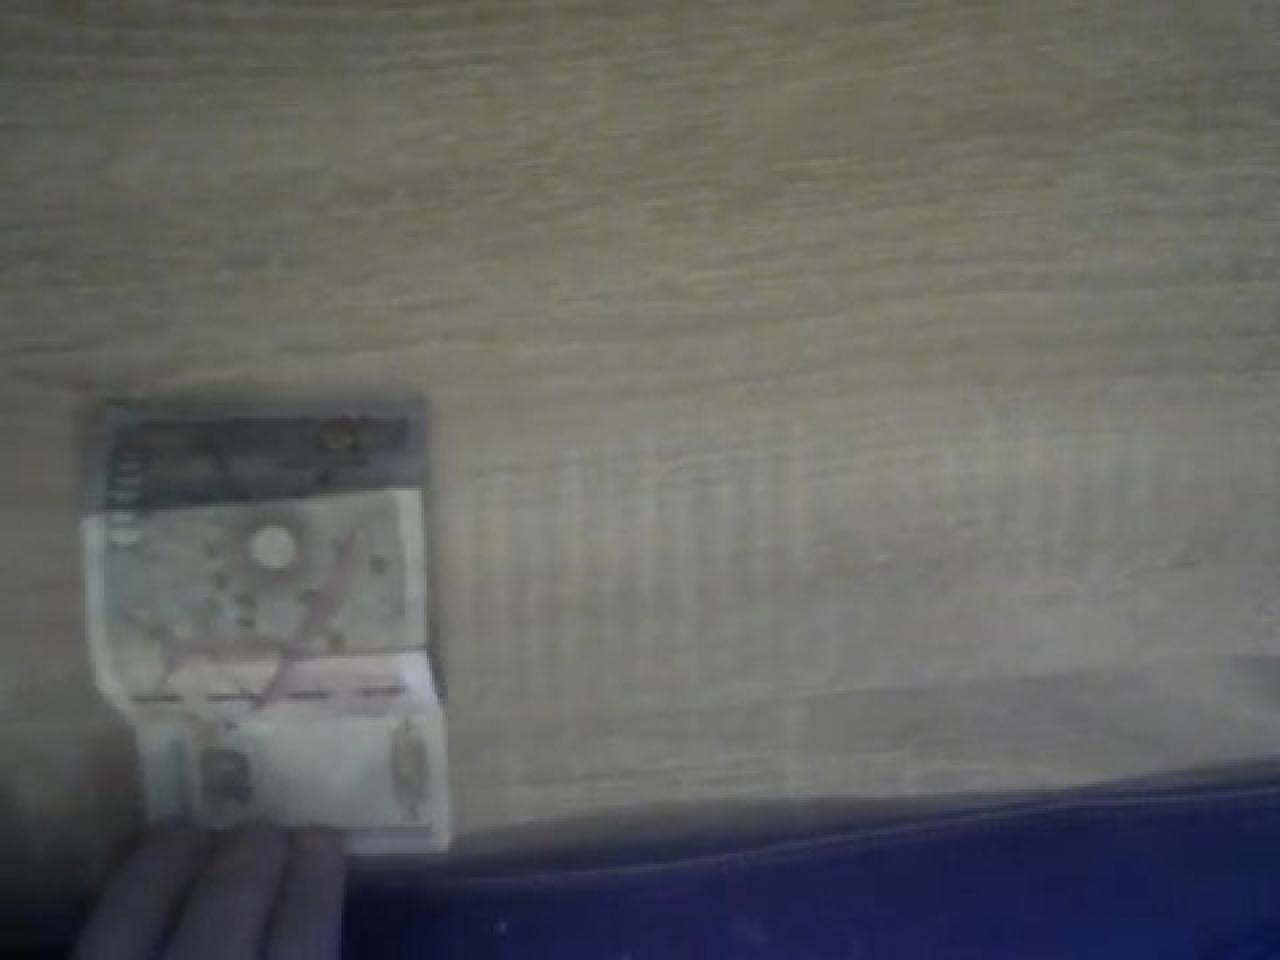10leva: (80, 400, 454, 853)
